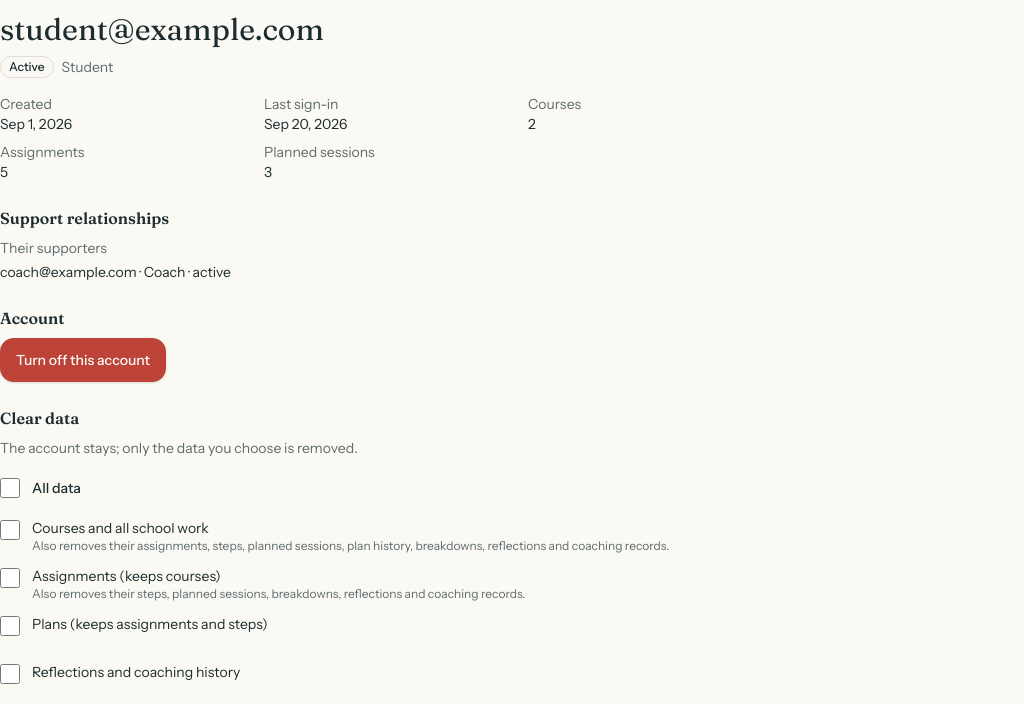
Scenario: AccountPage (admin-account-management-v0.1.md, requirement 2) › clearing data (requirement 3, A5, A7) › selective: shows what will be removed, then clears exactly the chosen categories
The image size is (1024, 704).
Click the checkbox labelled "Plans (keeps assignments and steps)" at coordinates (10, 626), box [0,616,20,636]
(page scrolled)
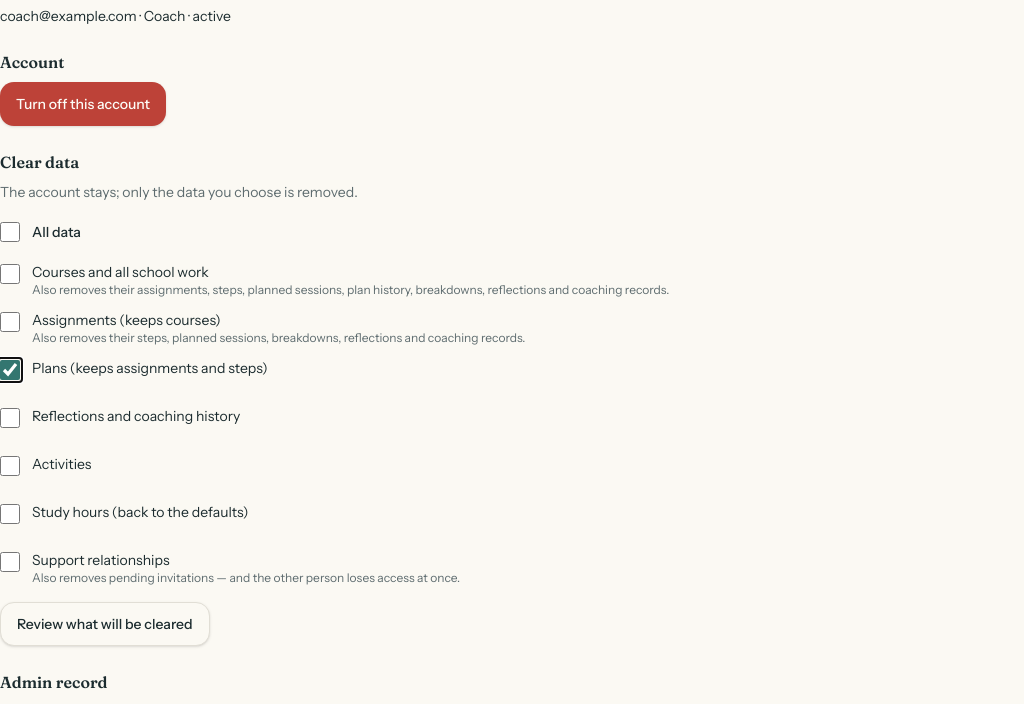
Click the button "Review what will be cleared" at coordinates (105, 624), box [0,602,210,646]
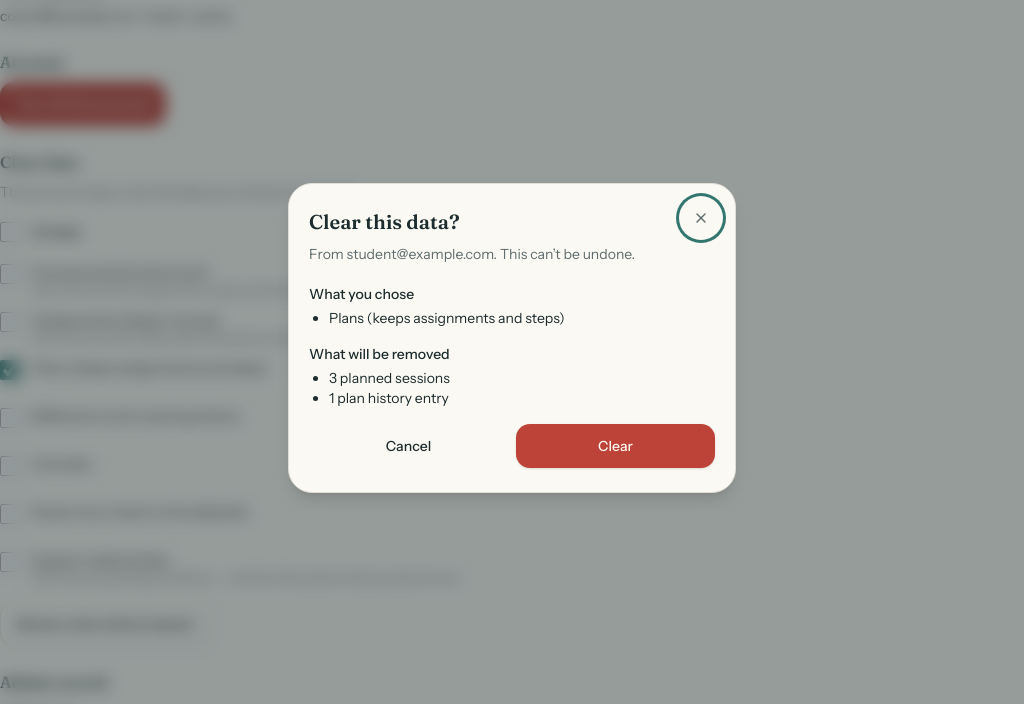
Expected: the list item "3 planned sessions" is shown, [329,369,450,387]
Expected: the list item "1 plan history entry" is shown, [329,389,449,407]
Click the button "Clear" at coordinates (616, 446), box [516,424,715,468]
(page scrolled)
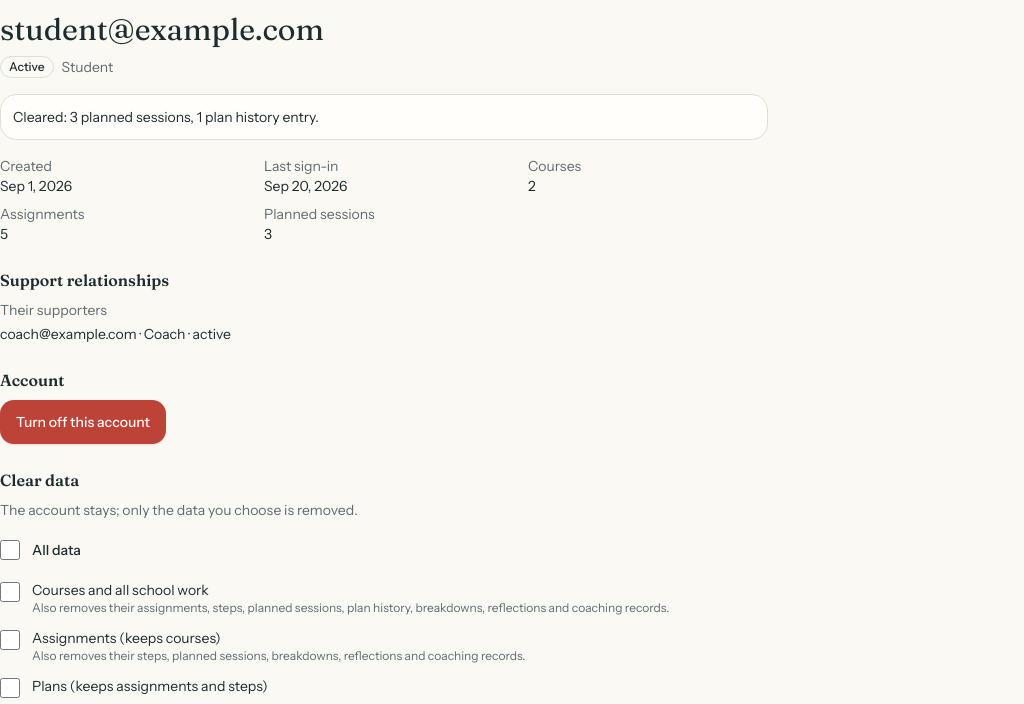
Expected: the text "Cleared: 3 planned sessions, 1 plan history entry." is shown, [0,94,768,140]
